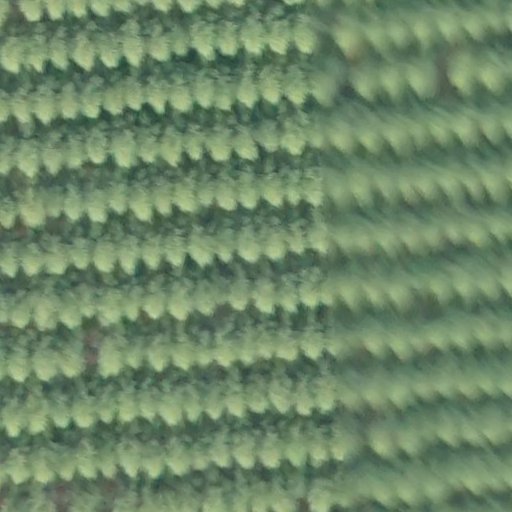eucalipto: (107, 124, 145, 170), (184, 218, 218, 269), (166, 69, 198, 115), (88, 234, 122, 276), (138, 228, 165, 271)
